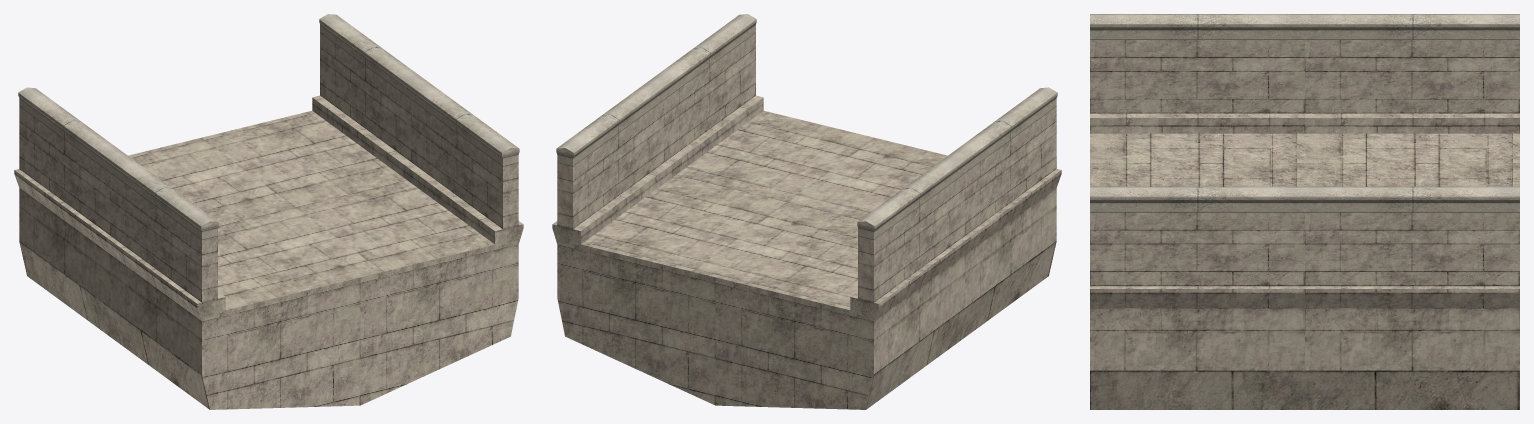
Rendered from FloatingMarble.dae.
3 views of the same model, side by side, from view 1: azimuth 30°, elevation 25°; view 2: azimuth 150°, elevation 25°; view 3: azimuth 270°, elevation 25° (orthographic). The views are drawn at different scales.
Parts seen in each view (by area): view 1: FloatingMarble; view 2: FloatingMarble; view 3: FloatingMarble.
Part boxes in pixels (left/top/right/bottom): FloatingMarble: left=14, top=14, right=523, bottom=409; FloatingMarble: left=552, top=14, right=1061, bottom=409; FloatingMarble: left=1090, top=14, right=1519, bottom=409.
Bounding box in the file's own units: 4.12 × 2.67 × 4.
Materials: 2 (2 with a texture image).
